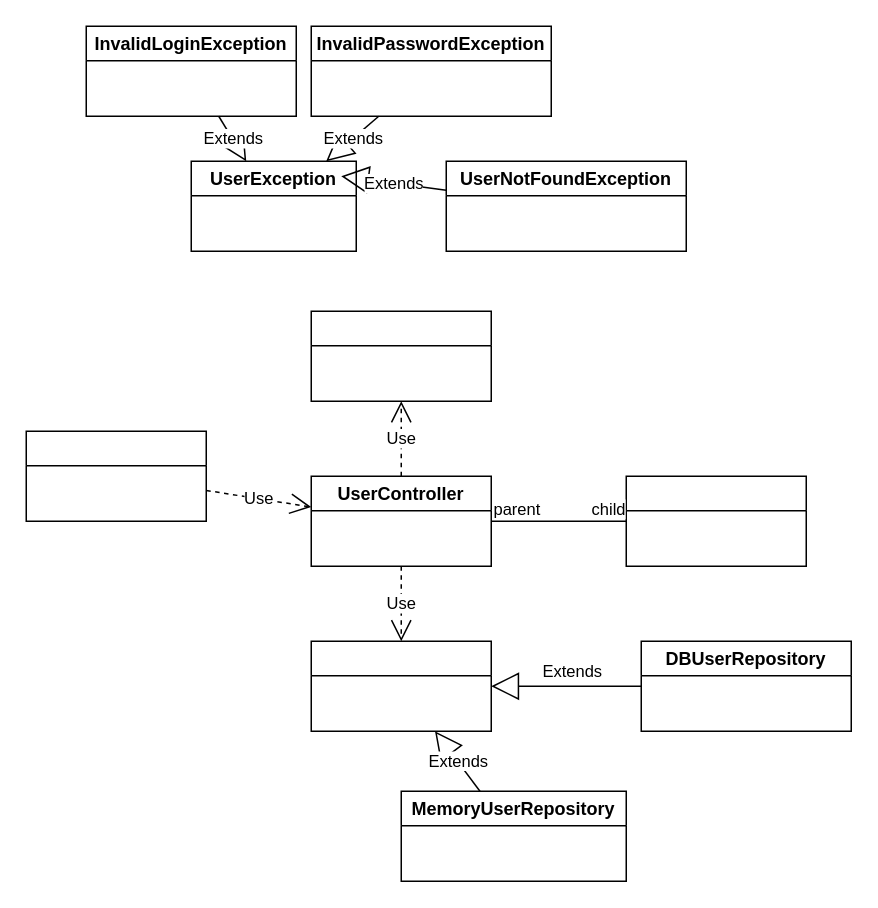
This 878x908 diagram has some shape labels left out. The shapes that lost their labels are listed below. From the top down, each one's centre as x and y in pixels, then its label:
point 400,355: UserValidator
point 115,475: UserView
point 715,520: User
point 400,685: UserRepository
